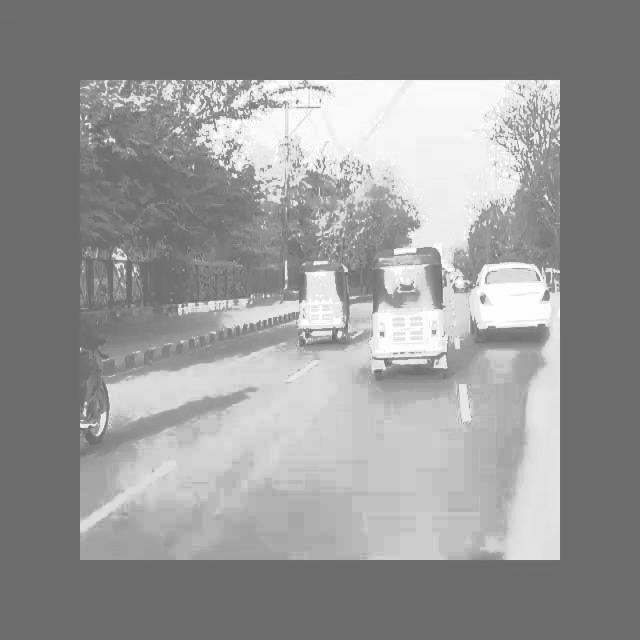Auto-Rickshaw: (367, 242, 455, 386), (297, 245, 358, 360)
Car: (467, 251, 560, 367)
